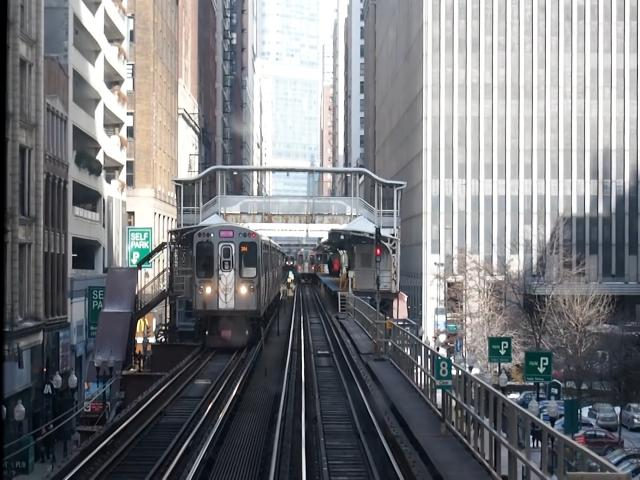signal light: (375, 229, 385, 267)
